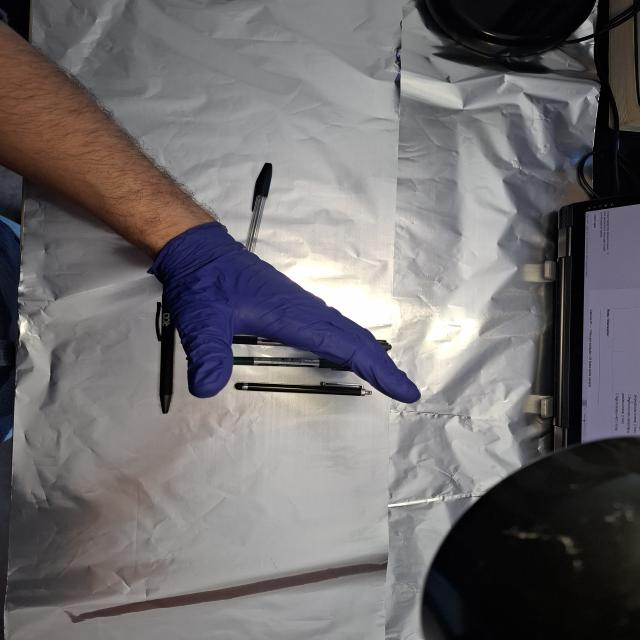glove_on: (147, 219, 424, 407)
